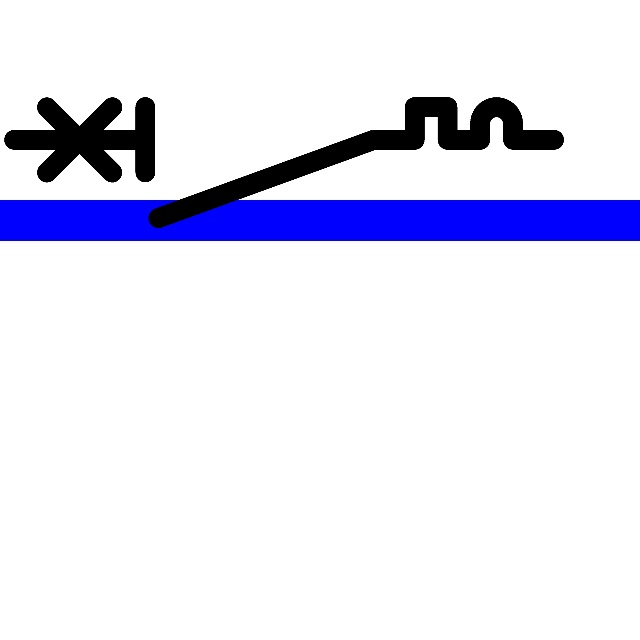interruptor_termomagnetico: (0, 93, 568, 232)
